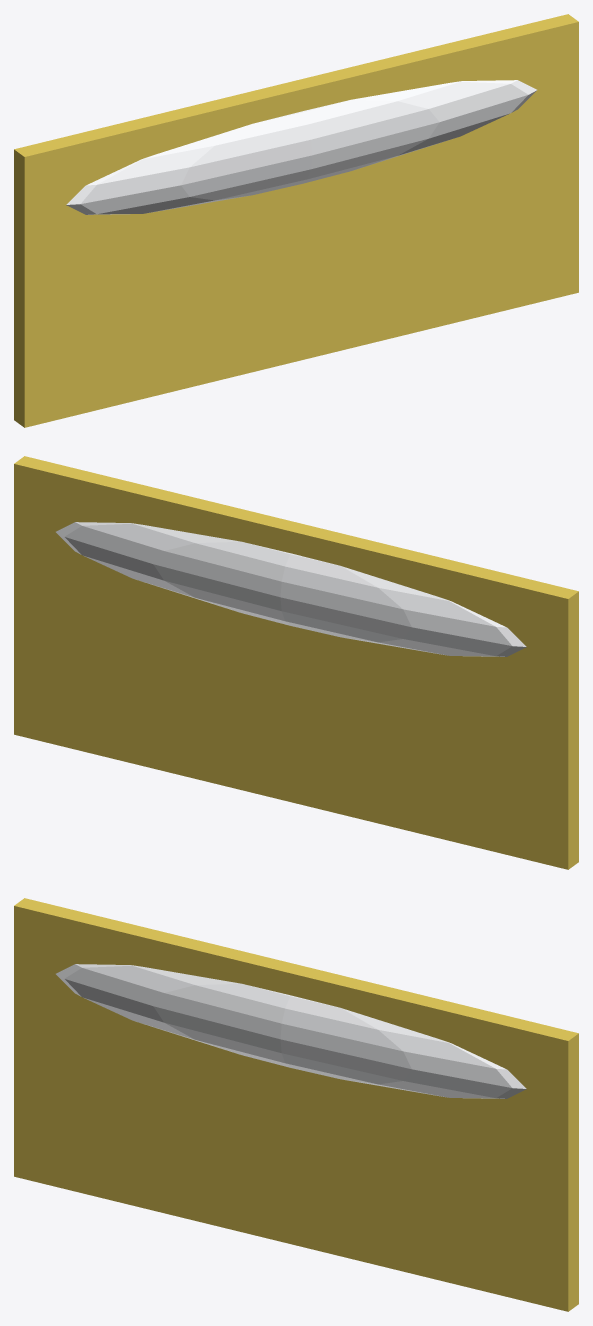
Rendered from snow_fence_bundle.glb.
3 renders of one model, top to bottom at view 1: azimuth 30°, elevation 25°; view 2: azimuth 150°, elevation 25°; view 3: azimuth 330°, elevation 25°, orthographic.
Visible parts, largest first — view 1: fence, snow; view 2: fence, snow; view 3: fence, snow.
Boxes of the visible parts, <box> form: fence: <box>14,14,578,427</box>; snow: <box>66,80,536,214</box>; fence: <box>14,456,578,869</box>; snow: <box>56,522,526,656</box>; fence: <box>14,898,578,1311</box>; snow: <box>56,964,526,1098</box>.
Bounding box in the file's own units: 3 × 1.4 × 0.2998.
